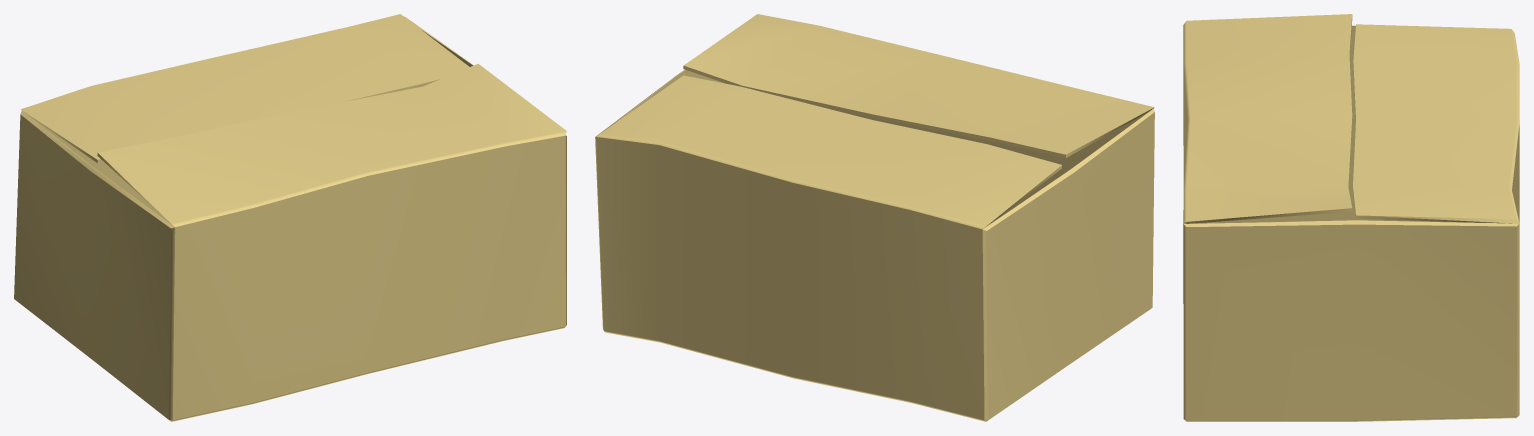
3 renders of one model, left to right at view 1: azimuth 30°, elevation 25°; view 2: azimuth 150°, elevation 25°; view 3: azimuth 270°, elevation 25°, orthographic. The views are drawn at different scales.
Parts seen in each view (by area): view 1: cardboard_box_b; view 2: cardboard_box_b; view 3: cardboard_box_b.
Boxes of the visible parts, left/top/right/bottom form: cardboard_box_b: left=14, top=14, right=566, bottom=421; cardboard_box_b: left=595, top=14, right=1154, bottom=421; cardboard_box_b: left=1183, top=14, right=1519, bottom=421.
Size of the model in its own units: 72.04 by 36.6 by 51.76.
